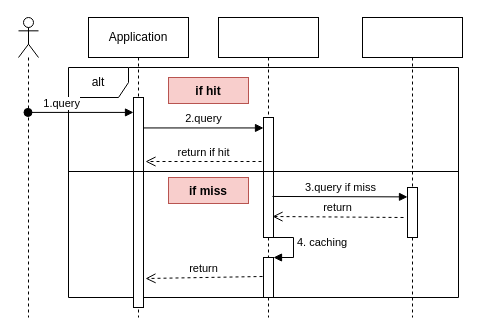
Image size: 480x335. Some labels were removed from this diagram. The box of each missing label's shape, as (x1, y1, x2, y2) in pixels:
cache service: (218, 16, 318, 318)
database: (362, 16, 462, 318)
